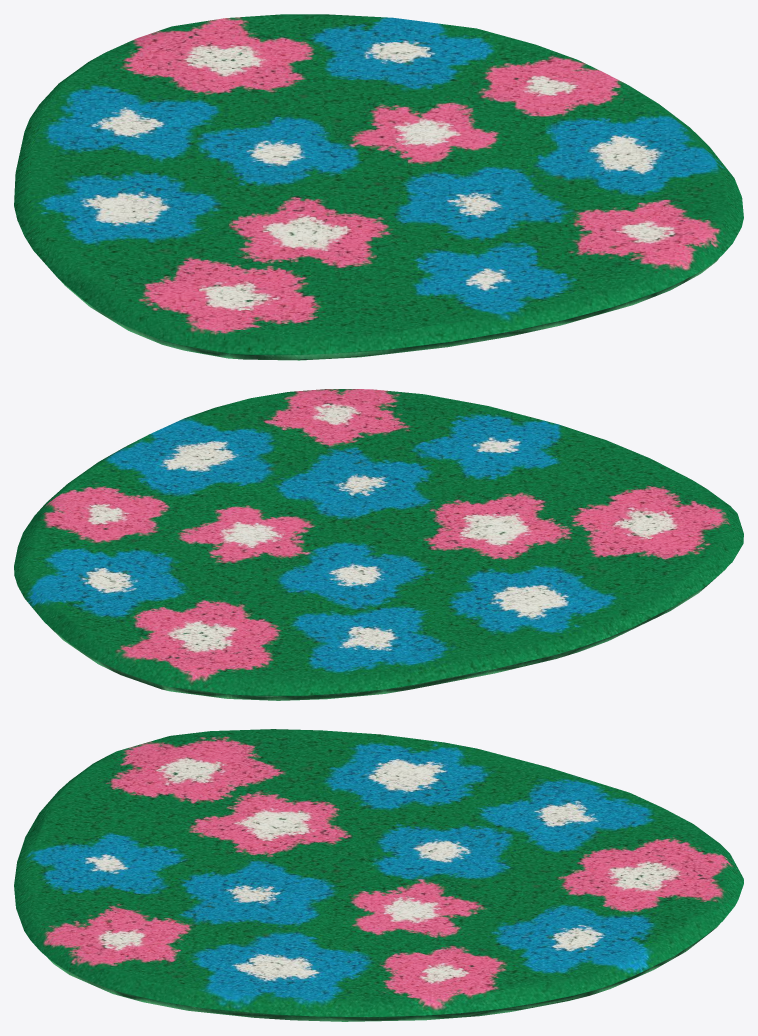
3 views of the same model, one above another, from view 1: azimuth 30°, elevation 25°; view 2: azimuth 150°, elevation 25°; view 3: azimuth 270°, elevation 25° (orthographic). The views are drawn at different scales.
Parts seen in each view (by area): view 1: 60605558-VATTENSKRUV001; view 2: 60605558-VATTENSKRUV001; view 3: 60605558-VATTENSKRUV001.
Boxes of the visible parts, left/top/right/bottom form: 60605558-VATTENSKRUV001: left=14, top=14, right=743, bottom=360; 60605558-VATTENSKRUV001: left=14, top=389, right=743, bottom=700; 60605558-VATTENSKRUV001: left=14, top=729, right=743, bottom=1021.
Bounding box in the file's own units: 0.7533 × 0.0215 × 0.817.
1 material, 1 textured.
